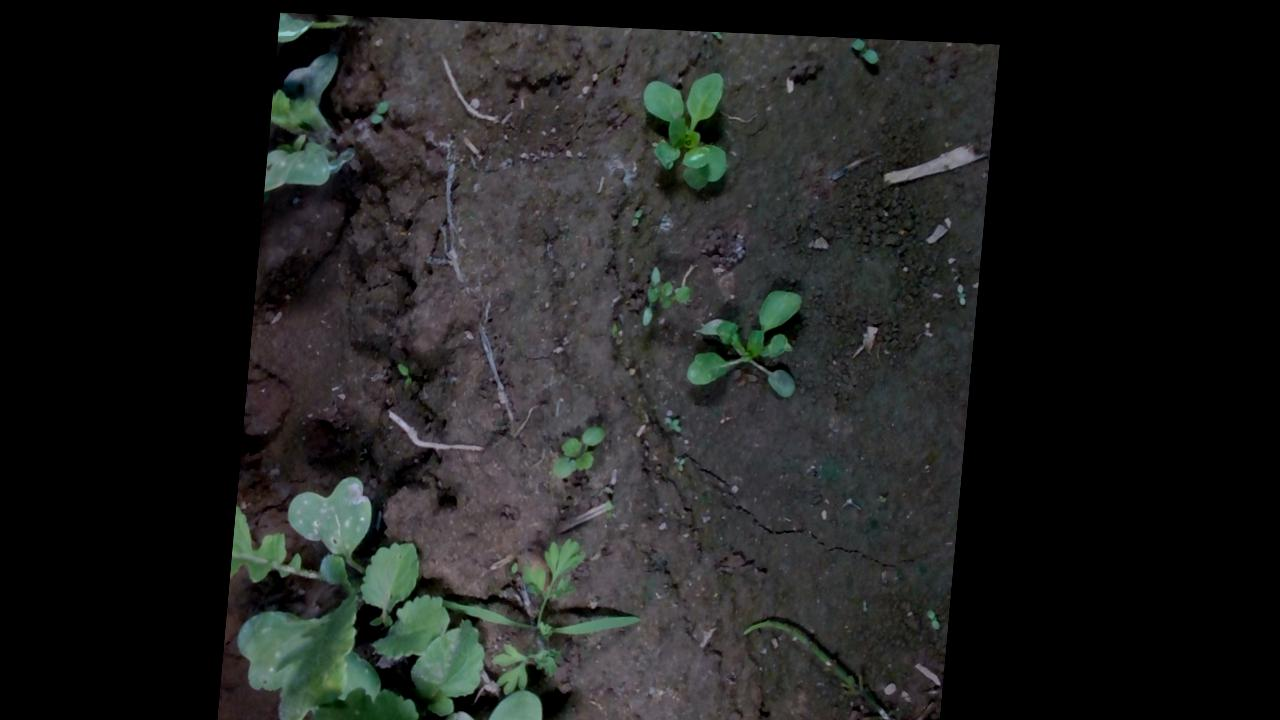weed: (557, 418, 613, 475), (848, 30, 881, 59), (398, 357, 421, 387), (632, 203, 645, 223)
